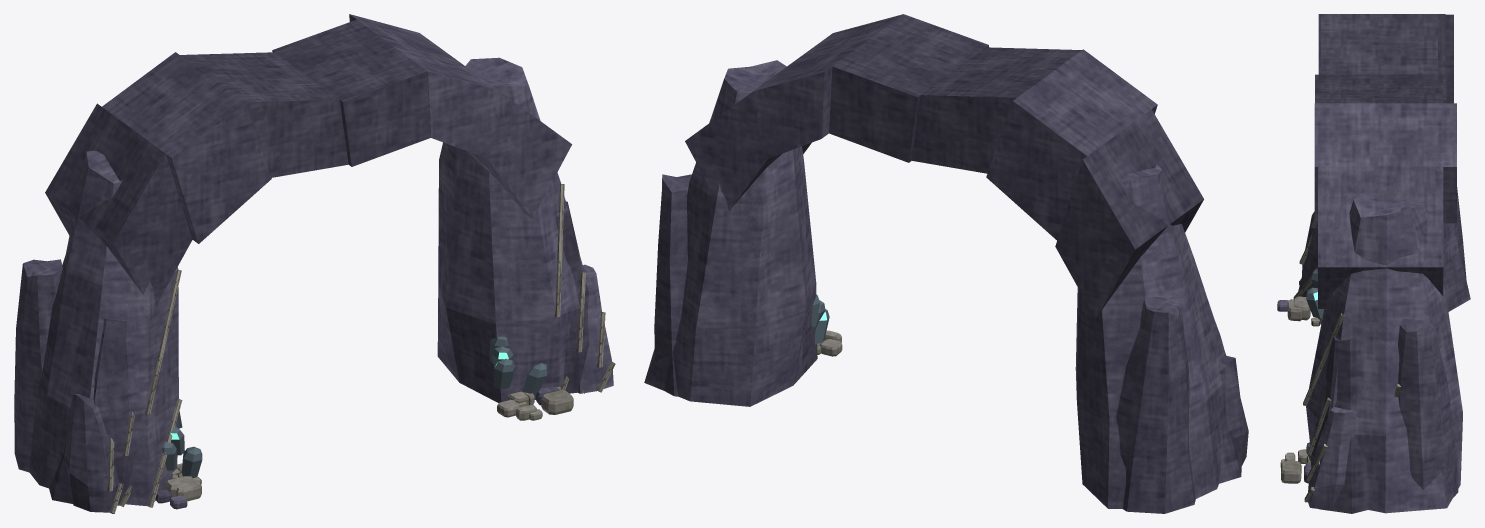
Rendered from mere-mouth.glb.
The picture shows the model from 3 angles, left to right: view 1: azimuth 30°, elevation 25°; view 2: azimuth 150°, elevation 25°; view 3: azimuth 270°, elevation 25°; orthographic projection. The views are drawn at different scales.
Visible parts, largest first — view 1: mere-mouth; view 2: mere-mouth; view 3: mere-mouth.
Boxes of the visible parts, bbox=[...] form: mere-mouth: bbox=[14, 14, 615, 513]; mere-mouth: bbox=[644, 14, 1248, 513]; mere-mouth: bbox=[1277, 14, 1470, 513].
Size of the model in its own units: 8.16 by 5.21 by 2.73.
5 materials, 3 textured.
